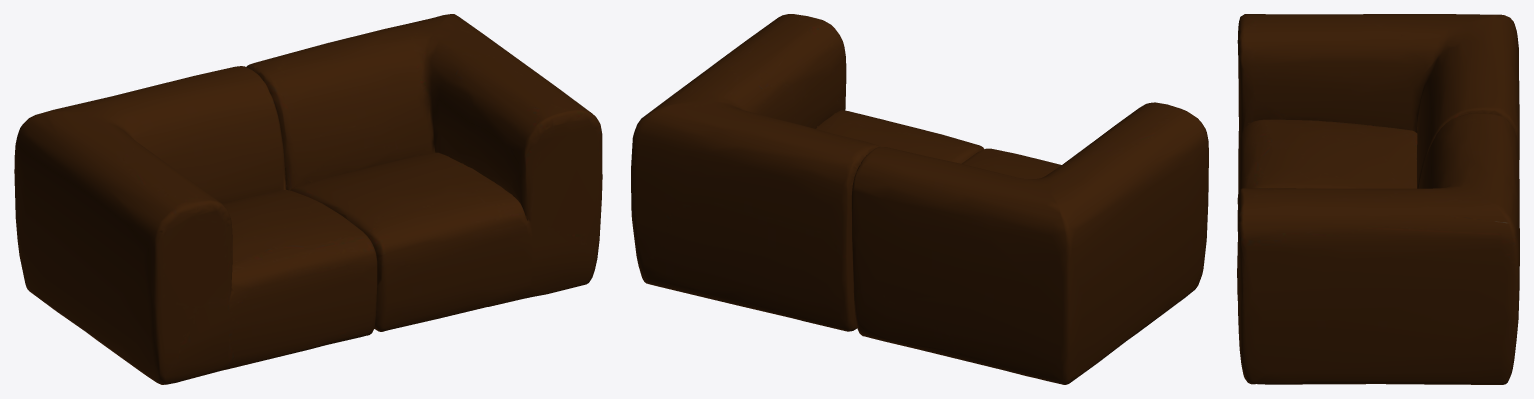
File: stockholm-2025-sofa-de-2-plazas-alhamn-marron-oscuro-90591748.glb
3 renders of one model, left to right at view 1: azimuth 30°, elevation 25°; view 2: azimuth 150°, elevation 25°; view 3: azimuth 270°, elevation 25°, orthographic. The views are drawn at different scales.
Parts seen in each view (by area): view 1: ASY_ART_90591748_S01_NV01; view 2: ASY_ART_90591748_S01_NV01; view 3: ASY_ART_90591748_S01_NV01.
Part boxes in pixels (<box>): ASY_ART_90591748_S01_NV01: <box>14,14,602,384</box>; ASY_ART_90591748_S01_NV01: <box>631,14,1208,384</box>; ASY_ART_90591748_S01_NV01: <box>1237,14,1519,384</box>.
Bounding box in the file's own units: 1.81 × 0.7113 × 1.01.
Materials: 1 (1 with a texture image).
